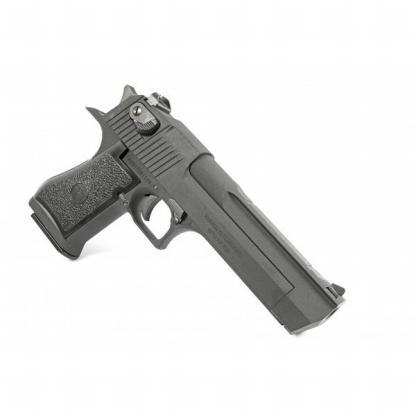Pistol: (27, 84, 348, 335)
